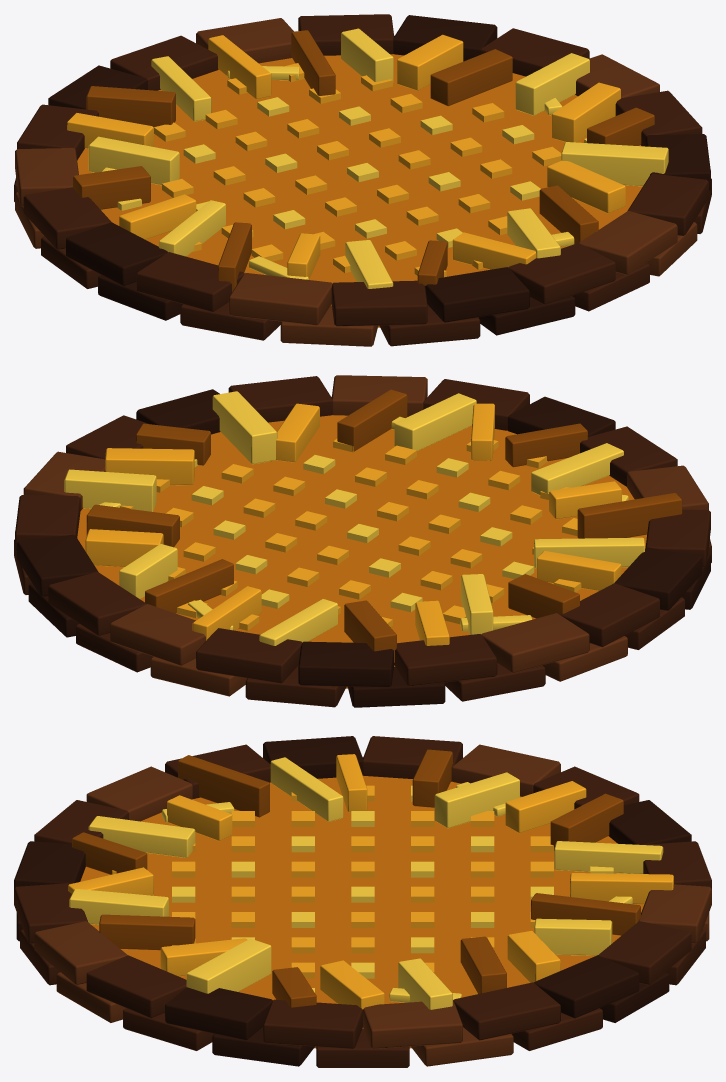
File: BrainrotNestFixed.glb
3 views of the same model, one above another, from view 1: azimuth 30°, elevation 25°; view 2: azimuth 150°, elevation 25°; view 3: azimuth 270°, elevation 25° (orthographic).
Parts seen in each view (by area): view 1: BrainrotNest; view 2: BrainrotNest; view 3: BrainrotNest.
Part boxes in pixels (x1,y1,x2,y2): BrainrotNest: [14, 14, 711, 346]; BrainrotNest: [14, 375, 711, 707]; BrainrotNest: [14, 736, 711, 1067].
Bounding box in the file's own units: 5.37 × 0.4772 × 5.37.
1 material, 1 textured.
